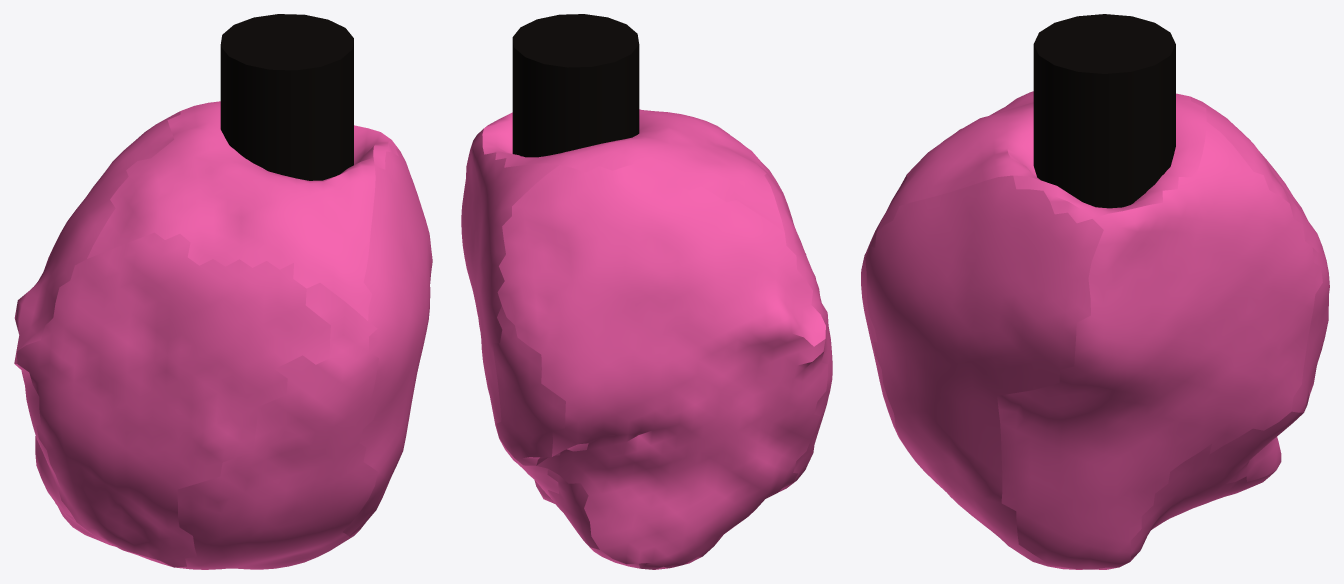
The model's file is pigjar.fbx.
3 views of the same model, side by side, from view 1: azimuth 30°, elevation 25°; view 2: azimuth 150°, elevation 25°; view 3: azimuth 270°, elevation 25° (orthographic). The views are drawn at different scales.
Parts seen in each view (by area): view 1: Polygon, Cylinder; view 2: Polygon, Cylinder; view 3: Polygon, Cylinder.
Part boxes in pixels (<box>): Polygon: <box>14,101,432,569</box>; Cylinder: <box>220,14,353,180</box>; Polygon: <box>461,109,832,569</box>; Cylinder: <box>512,14,639,157</box>; Polygon: <box>861,91,1329,569</box>; Cylinder: <box>1033,14,1175,208</box>.
Bounding box in the file's own units: 23.34 × 28.23 × 22.86.
